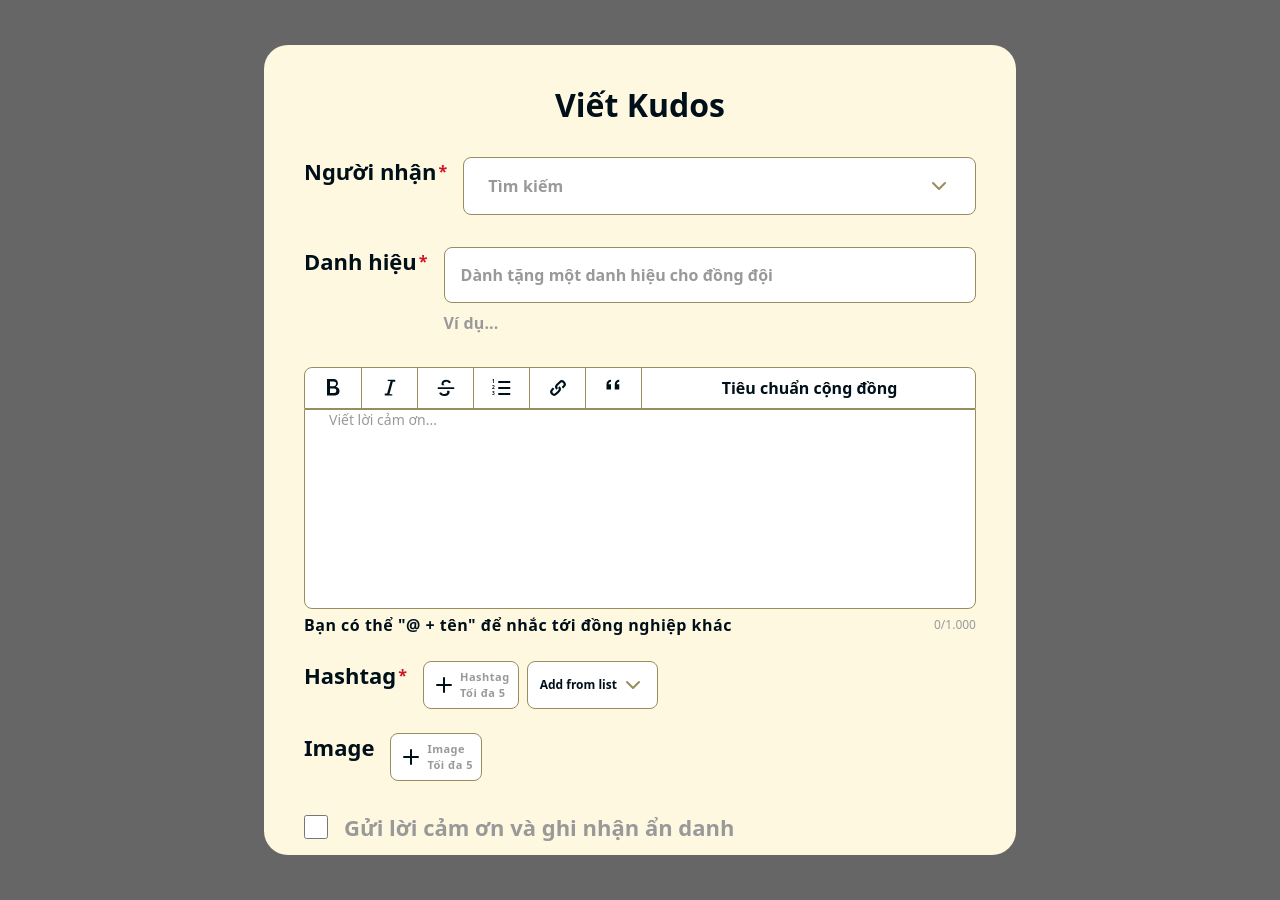
Test: ComposeDialog › preserves the draft (title + content) across opening and closing the Community Standards panel (FR-23 edge case: panel is a sibling overlay, never a remount of
The image size is (1280, 900).
Type "Người truyền động lực" into the field with placeholder "Dành tặng một danh hiệu cho đồng đội".
click(710, 275); type("Người truyền động lực")  # box [444,247,976,303]
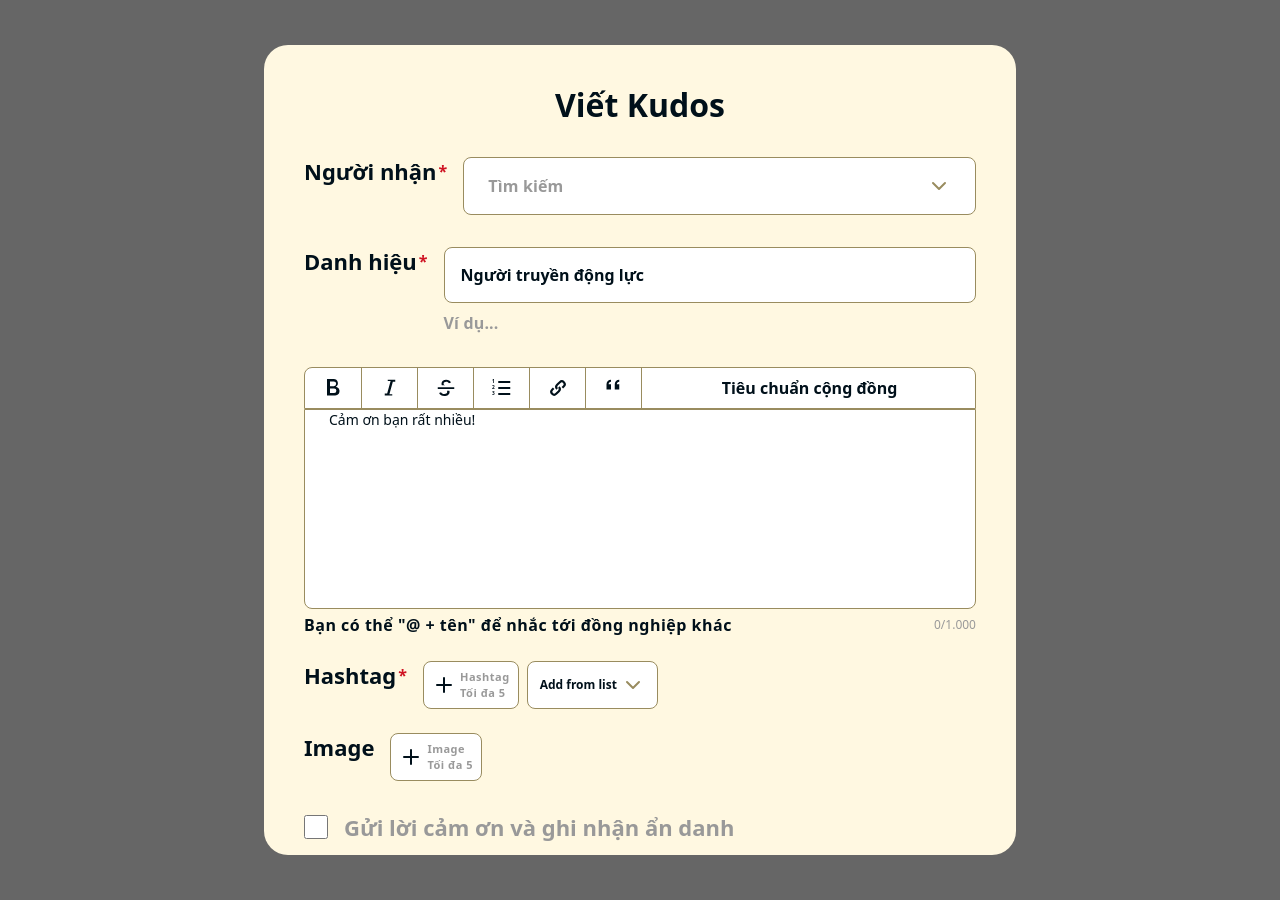
Clear the field named "Viết lời cảm ơn..." at (640, 509), box [304,409,976,609]
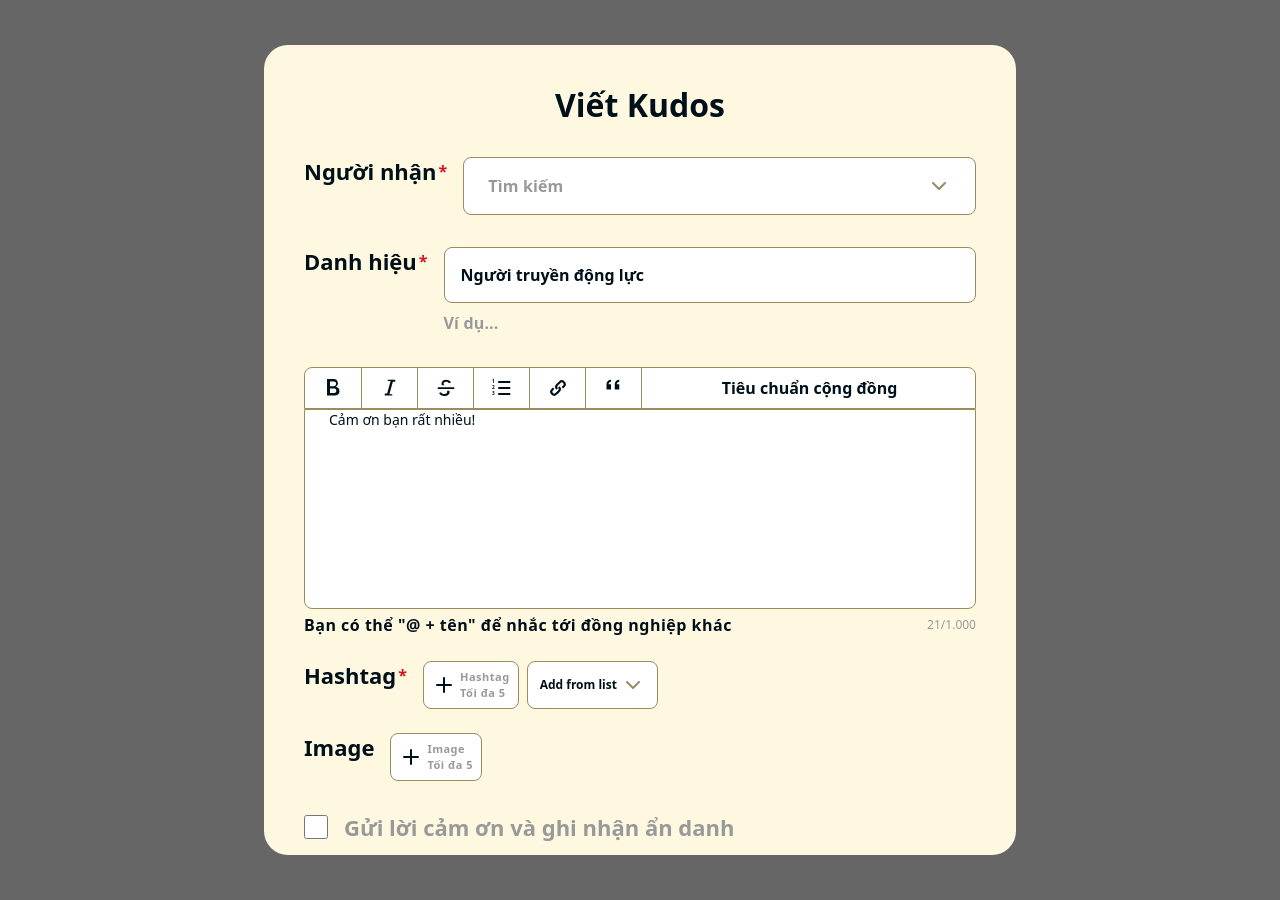
Click the button "Tiêu chuẩn cộng đồng".
click(809, 388)  # box [641,368,977,408]
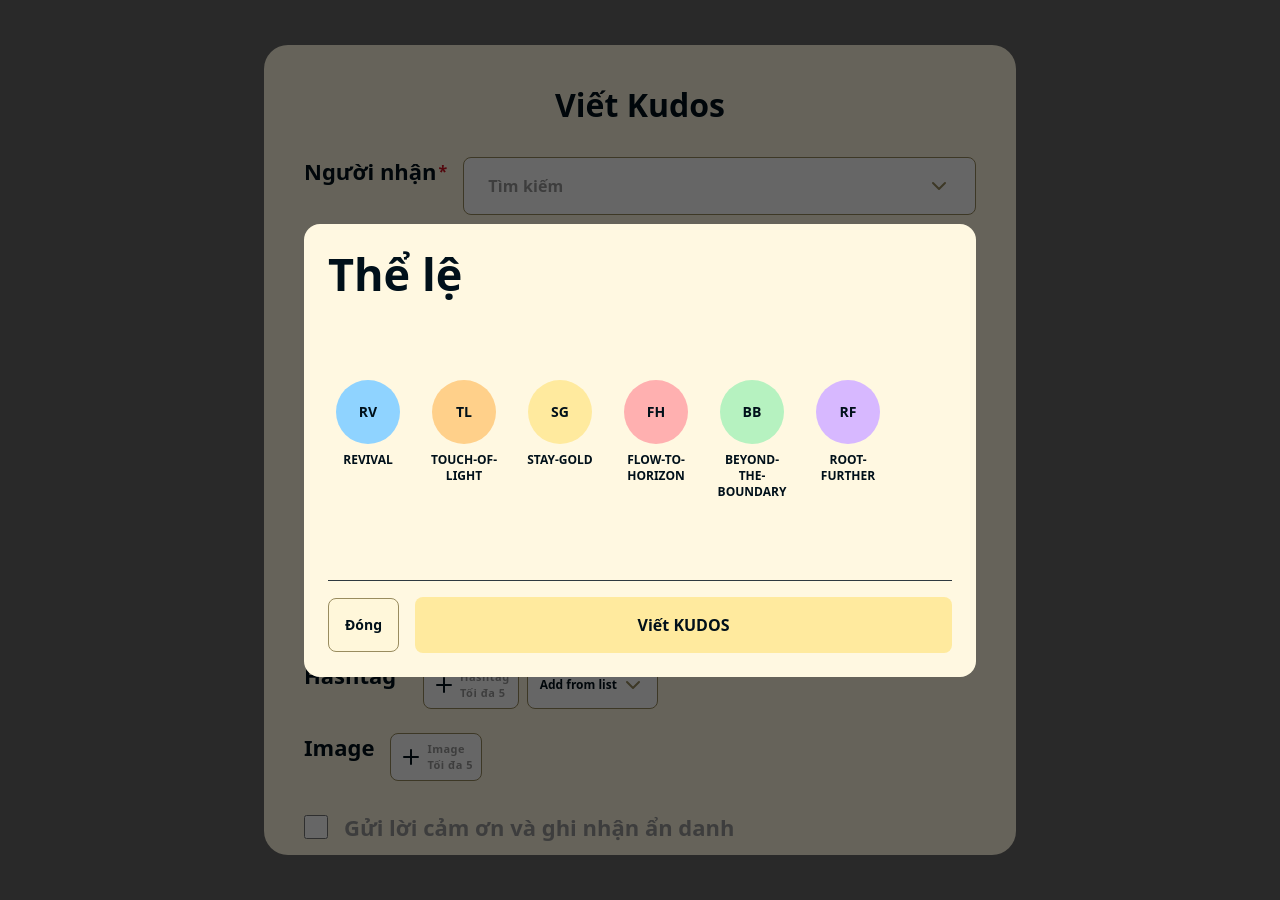
Check: the dialog "Thể lệ" is shown, box [304,224,976,676]
Click the button "Đóng".
click(364, 624)  # box [328,598,399,652]
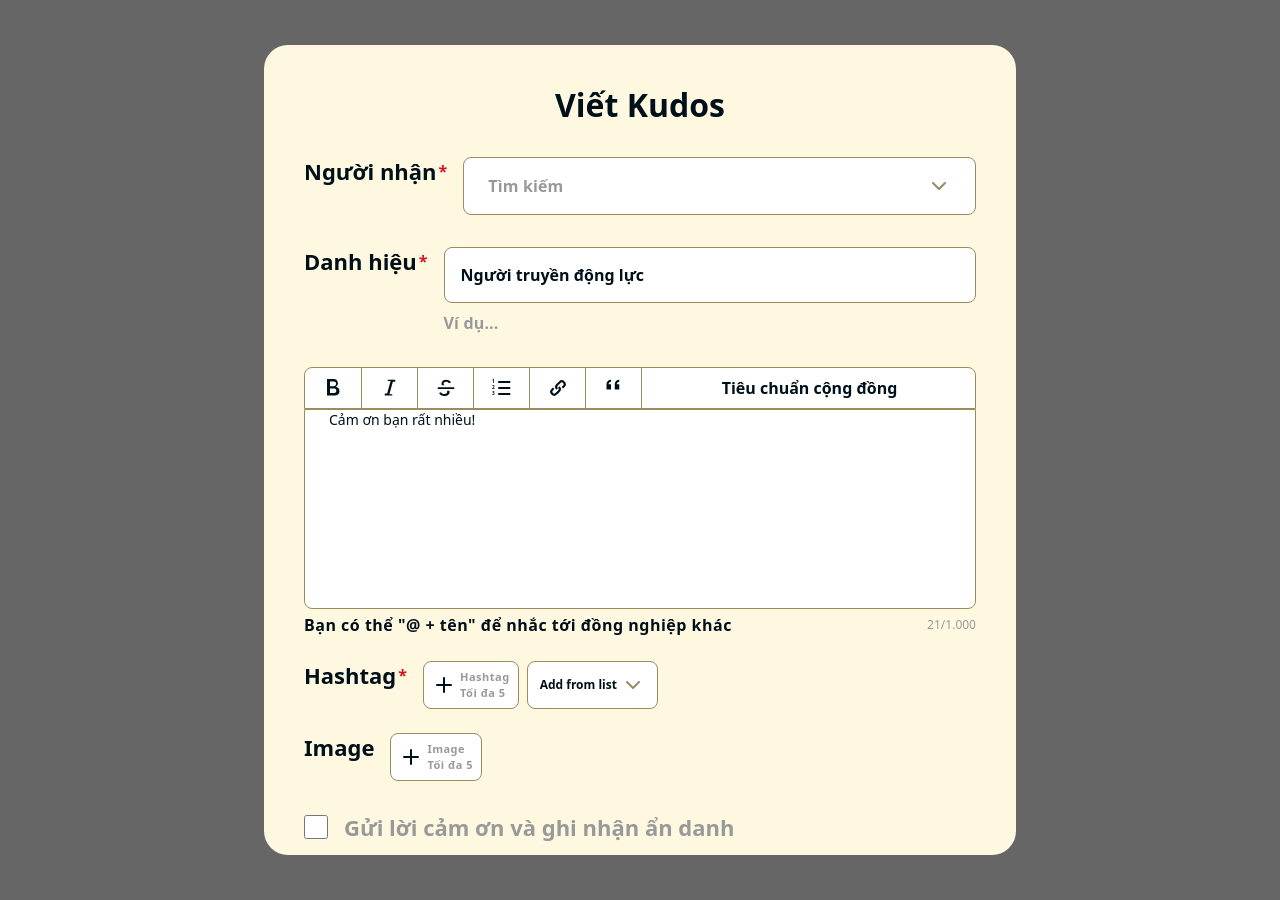
Check: the heading "Thể lệ" is gone
